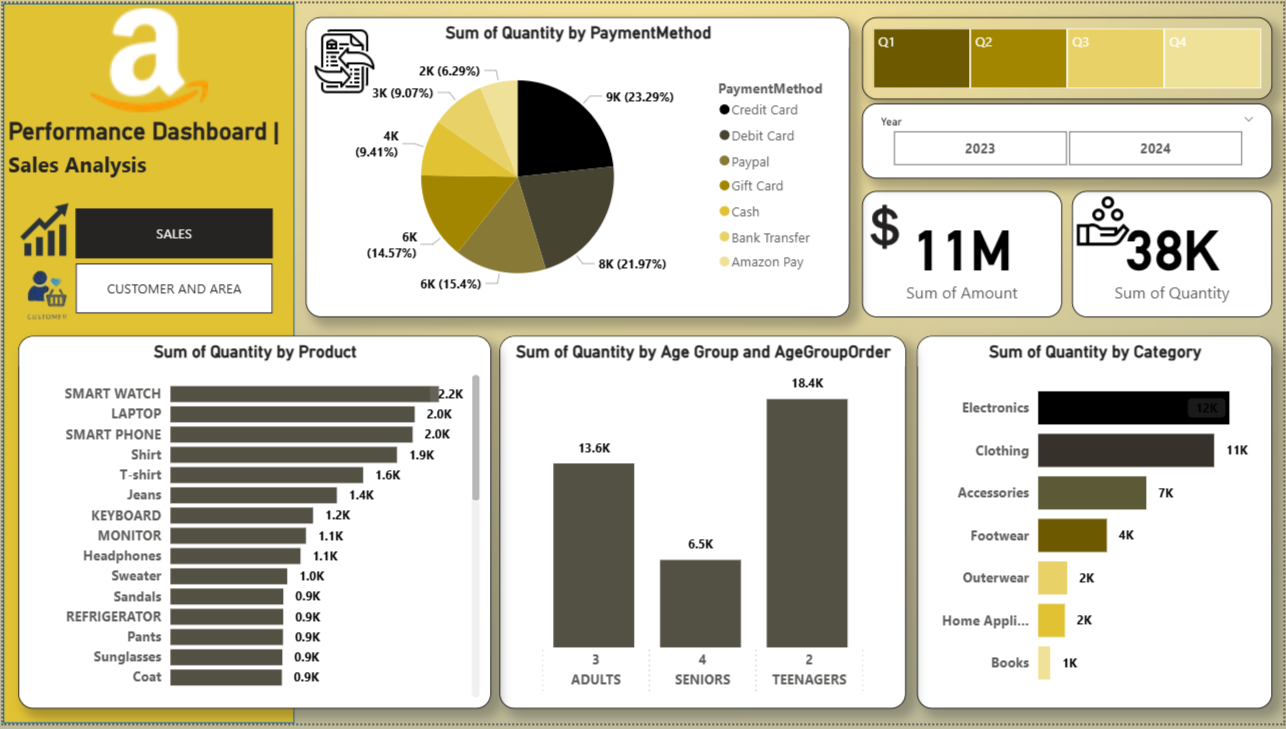

This screenshot's page, from the dashboard's own definition file:
{"tool":"powerbi","page":{"name":"SALES","canvas":[1280,720],"ordinal":0},"visuals":[{"type":"shape","box":[0,0,291.2,720],"z":0},{"type":"barChart","fields":{"Category":["amazon transactions.Category"],"Y":["Sum(amazon transactions.Quantity)"]},"box":[913.8,332.5,355,372.5],"z":1000},{"type":"treemap","fields":{"Group":["amazon transactions.Quartar"],"Values":["Count(amazon transactions.Quartar)"]},"box":[858.8,13.8,410,82.5],"z":2000},{"type":"clusteredColumnChart","fields":{"Category":["amazon transactions.Age Group","amazon transactions.AgeGroupOrder"],"Y":["Sum(amazon transactions.Quantity)"]},"box":[496.2,332.5,406.2,372.5],"z":3000},{"type":"card","fields":{"Values":["Sum(amazon transactions.Quantity)"]},"box":[1068.8,187.5,200,126.2],"z":4000},{"type":"card","fields":{"Values":["Sum(amazon transactions.Amount)"]},"box":[858.8,187.5,200,126.2],"z":5000},{"type":"pieChart","fields":{"Y":["Sum(amazon transactions.Quantity)"],"Category":["amazon transactions.PaymentMethod"]},"box":[302.5,13.8,543.8,300],"z":6000},{"type":"slicer","fields":{"Values":["amazon transactions.Dated.Variation.Date Hierarchy.Year"]},"box":[858.8,100,410,75],"z":7000},{"type":"barChart","fields":{"Y":["Sum(amazon transactions.Quantity)"],"Category":["amazon transactions.Product"]},"box":[15,332.5,472.5,372.5],"z":8000},{"type":"textbox","title":"Performance Dashboard |","box":[0,113.8,380,73.8],"z":9000},{"type":"bookmarkNavigator","box":[72.5,260,197.5,50],"z":12000},{"type":"bookmarkNavigator","box":[72.5,205,197.5,50],"z":13000},{"type":"image","box":[0,0,291.2,113.8],"z":14000},{"type":"image","box":[302.5,15,77.5,86.2],"z":16000},{"type":"image","box":[5,192.5,72.5,67.5],"z":16500},{"type":"image","box":[1068.8,180,62.5,75],"z":17001},{"type":"image","box":[0,251.2,82.5,80],"z":17502},{"type":"image","box":[846.2,180,72.5,85],"z":18503}]}

Visuals, with their boxes in screenshot pixels (x1, y1, x2, y2), scaled from the page's 1280x720 canvas onto the 1286x729 screenshot:
shape: BBox(0, 0, 293, 728)
barChart - amazon transactions.Category x Sum(amazon transactions.Quantity): BBox(918, 337, 1275, 714)
treemap - amazon transactions.Quartar x Count(amazon transactions.Quartar): BBox(863, 14, 1275, 98)
clusteredColumnChart - amazon transactions.Age Group x amazon transactions.AgeGroupOrder: BBox(499, 337, 907, 714)
card - Sum(amazon transactions.Quantity): BBox(1074, 190, 1275, 318)
card - Sum(amazon transactions.Amount): BBox(863, 190, 1064, 318)
pieChart - Sum(amazon transactions.Quantity) x amazon transactions.PaymentMethod: BBox(304, 14, 850, 318)
slicer - amazon transactions.Dated.Variation.Date Hierarchy.Year: BBox(863, 101, 1275, 177)
barChart - Sum(amazon transactions.Quantity) x amazon transactions.Product: BBox(15, 337, 490, 714)
"Performance Dashboard |" textbox: BBox(0, 115, 382, 190)
bookmarkNavigator: BBox(73, 263, 271, 314)
bookmarkNavigator: BBox(73, 208, 271, 258)
image: BBox(0, 0, 293, 115)
image: BBox(304, 15, 382, 102)
image: BBox(5, 195, 78, 263)
image: BBox(1074, 182, 1137, 258)
image: BBox(0, 254, 83, 335)
image: BBox(850, 182, 923, 268)
